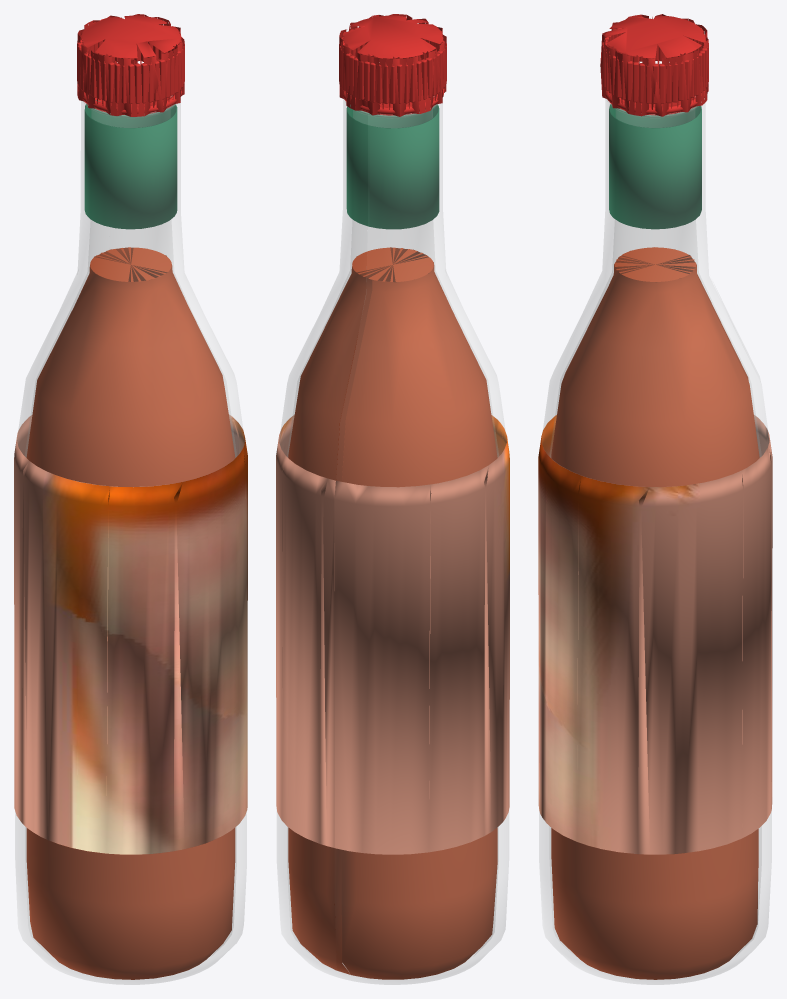
3 views of the same model, side by side, from view 1: azimuth 30°, elevation 25°; view 2: azimuth 150°, elevation 25°; view 3: azimuth 270°, elevation 25° (orthographic).
Visible parts, largest first — view 1: profile-conforming printed label, thin shell with corrected shoulder, separate contents, neck band, removable closure; view 2: profile-conforming printed label, thin shell with corrected shoulder, separate contents, neck band, removable closure; view 3: profile-conforming printed label, thin shell with corrected shoulder, separate contents, neck band, removable closure.
Boxes of the visible parts, x1,y1,x2,y2 form: profile-conforming printed label: (14,414,247,854); thin shell with corrected shoulder: (15,96,246,984); separate contents: (26,247,235,979); neck band: (84,100,177,229); removable closure: (77,14,184,116); profile-conforming printed label: (276,415,509,854); thin shell with corrected shoulder: (277,96,508,984); separate contents: (288,247,497,979); neck band: (346,104,439,229); removable closure: (339,14,446,116); profile-conforming printed label: (538,415,772,854); thin shell with corrected shoulder: (539,96,771,984); separate contents: (551,247,759,979); neck band: (609,104,701,229); removable closure: (600,14,708,116).
Bounding box in the file's own units: 0.0463 × 0.1994 × 0.0463.
Materials: 5 (1 with a texture image).
